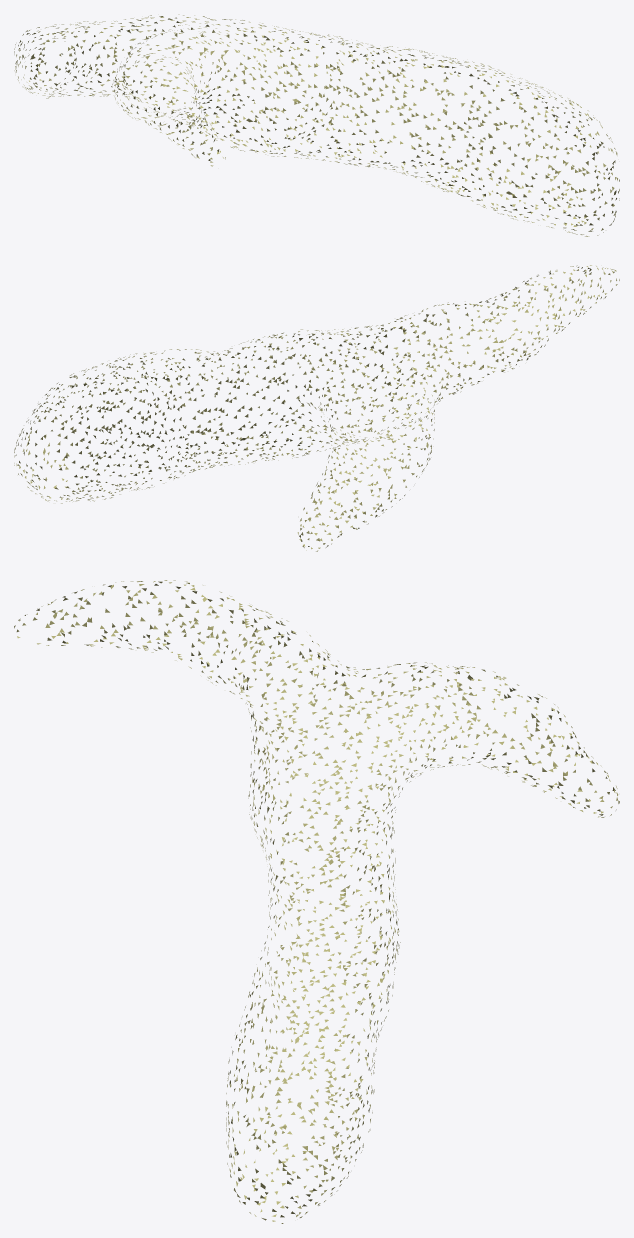
The model's file is morph_009.glb.
The picture shows the model from 3 angles, top to bottom: view 1: azimuth 30°, elevation 25°; view 2: azimuth 150°, elevation 25°; view 3: azimuth 270°, elevation 25°; orthographic projection. The views are drawn at different scales.
Bounding box in the file's own units: 99.29 × 57.68 × 85.36.
